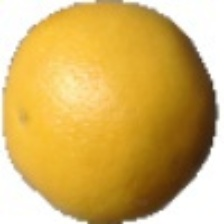grapes: (0, 14, 192, 200)
